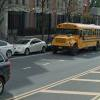Bus: (48, 15, 97, 56)
